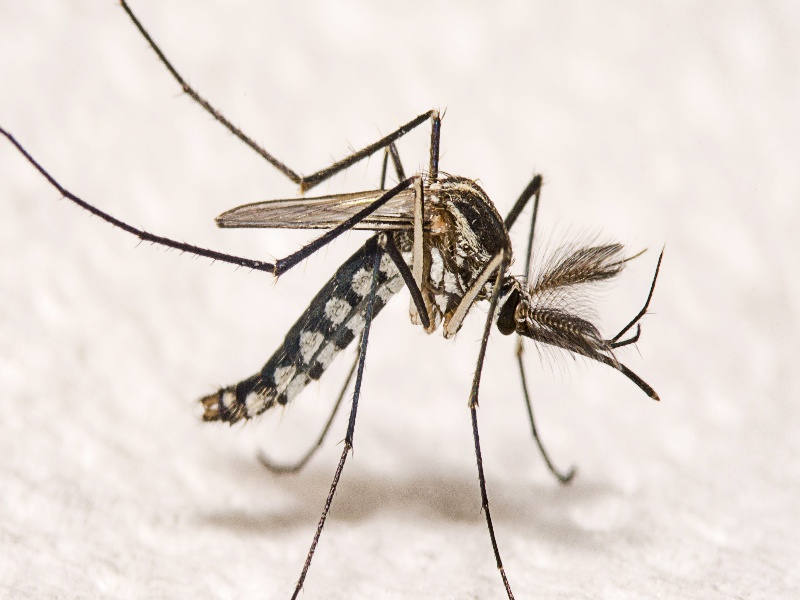dengue_mosquito: (125, 111, 659, 426)
